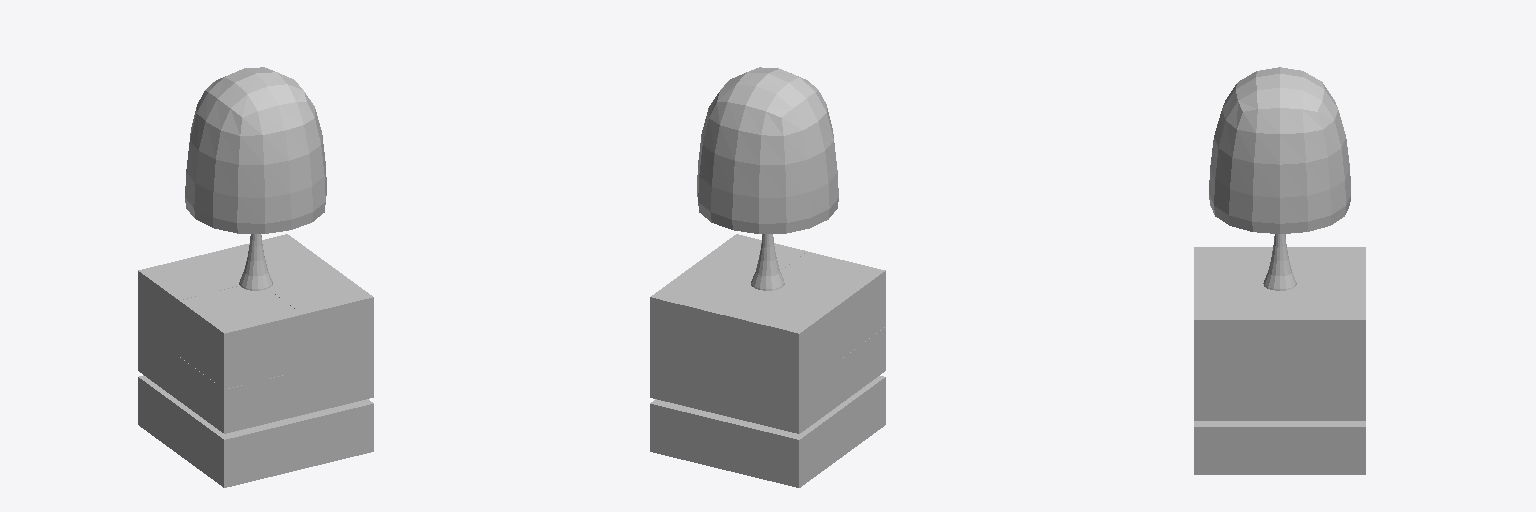
The model's file is tiles_004.obj.
3 renders of one model, left to right at view 1: azimuth 30°, elevation 25°; view 2: azimuth 150°, elevation 25°; view 3: azimuth 270°, elevation 25°, orthographic.
Parts seen in each view (by area): view 1: Basin_Corner_Inner_Cube.012, Tree_Gumdrop_Cube.014, Base_Cube.011, Clear_Cube.013; view 2: Tree_Gumdrop_Cube.014, Clear_Cube.013, Basin_Corner_Inner_Cube.012, Base_Cube.011; view 3: Tree_Gumdrop_Cube.014, Clear_Cube.013, Base_Cube.011, Basin_Corner_Inner_Cube.012.
Boxes of the visible parts, x1,y1,x2,y2 form: Basin_Corner_Inner_Cube.012: [138, 234, 373, 433]; Tree_Gumdrop_Cube.014: [185, 67, 326, 290]; Base_Cube.011: [138, 375, 373, 487]; Clear_Cube.013: [179, 240, 352, 427]; Tree_Gumdrop_Cube.014: [697, 67, 838, 290]; Clear_Cube.013: [650, 240, 885, 433]; Basin_Corner_Inner_Cube.012: [651, 234, 885, 432]; Base_Cube.011: [650, 376, 885, 487]; Tree_Gumdrop_Cube.014: [1209, 67, 1350, 290]; Clear_Cube.013: [1194, 247, 1365, 420]; Base_Cube.011: [1194, 421, 1365, 474]; Basin_Corner_Inner_Cube.012: [1194, 247, 1365, 319].
Size of the model in its own units: 2.05 by 4.78 by 2.05.